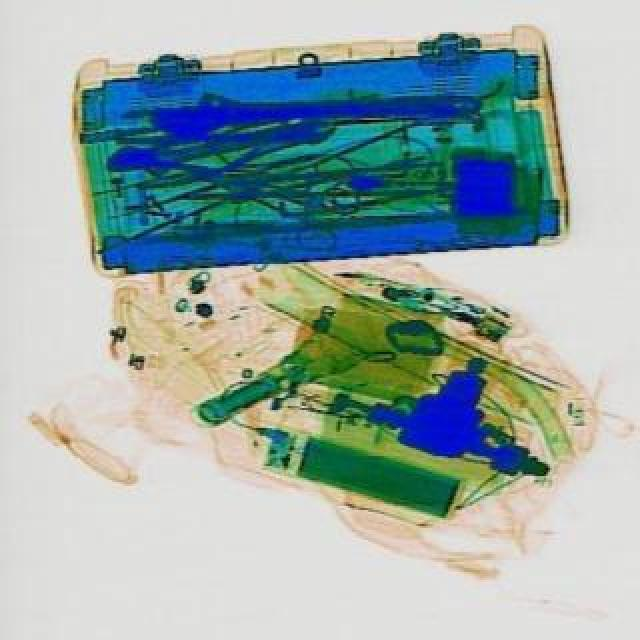scissors: (148, 78, 480, 142), (96, 102, 334, 184)
